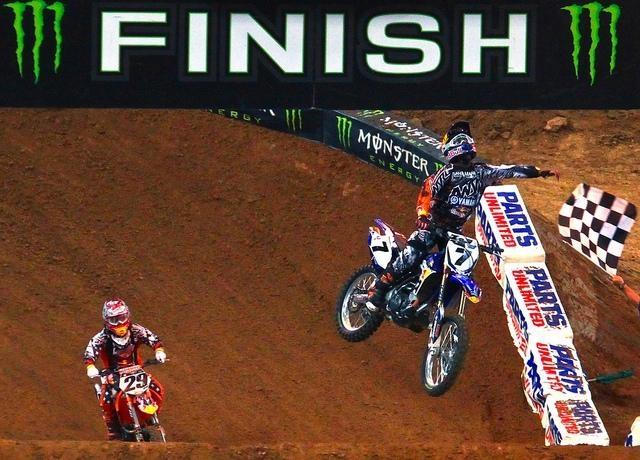motorcycle: (338, 232, 498, 396), (100, 359, 167, 443)
